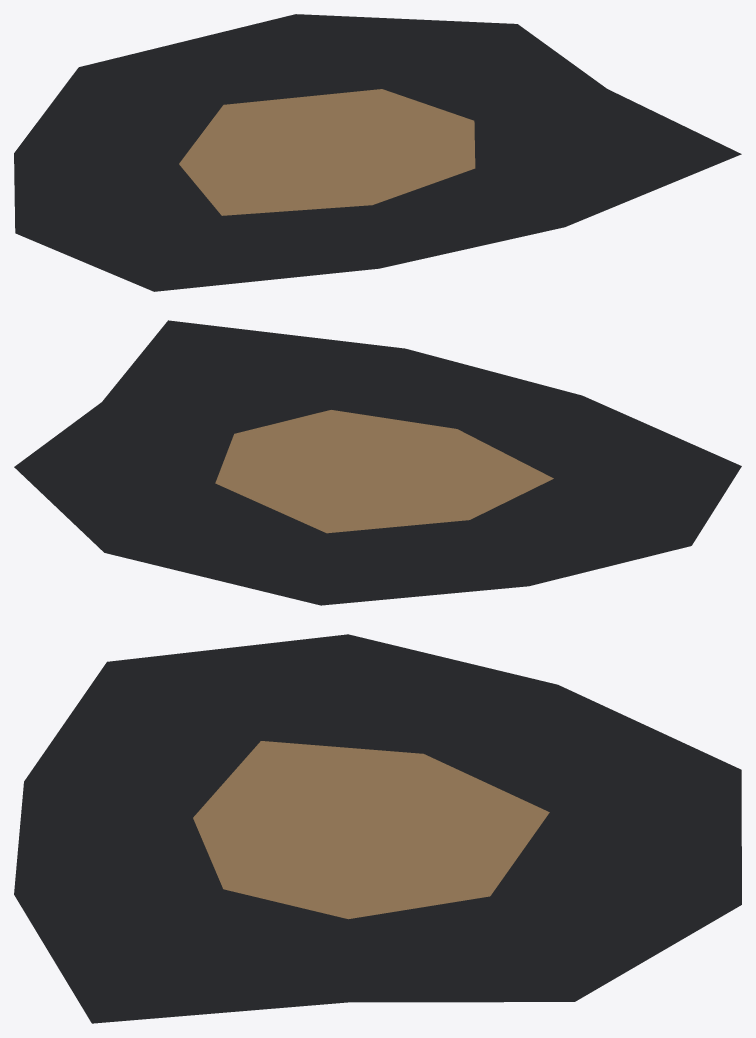
Rendered from Decal_Pothole_Medium.glb.
3 views of the same model, one above another, from view 1: azimuth 30°, elevation 25°; view 2: azimuth 150°, elevation 25°; view 3: azimuth 270°, elevation 25° (orthographic). The views are drawn at different scales.
Parts seen in each view (by area): view 1: Decal_Pothole_Medium_Rubber, Decal_Pothole_Medium_Dirt; view 2: Decal_Pothole_Medium_Rubber, Decal_Pothole_Medium_Dirt; view 3: Decal_Pothole_Medium_Rubber, Decal_Pothole_Medium_Dirt.
Part boxes in pixels (left/top/right/bottom): Decal_Pothole_Medium_Rubber: left=14, top=14, right=741, bottom=291; Decal_Pothole_Medium_Dirt: left=179, top=89, right=475, bottom=215; Decal_Pothole_Medium_Rubber: left=14, top=320, right=741, bottom=605; Decal_Pothole_Medium_Dirt: left=215, top=410, right=553, bottom=533; Decal_Pothole_Medium_Rubber: left=14, top=634, right=741, bottom=1023; Decal_Pothole_Medium_Dirt: left=193, top=741, right=549, bottom=919.
Size of the model in its own units: 1.32 by 0.001 by 1.04.
